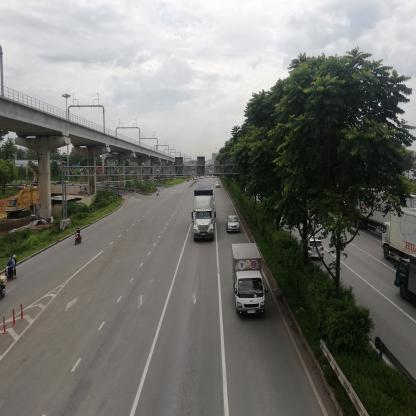car: (304, 239, 323, 256), (228, 217, 240, 235)
container: (193, 188, 215, 241)
motorbike: (8, 255, 20, 280), (75, 231, 84, 245), (156, 189, 160, 199)
truck: (232, 245, 267, 319), (381, 210, 416, 261)
